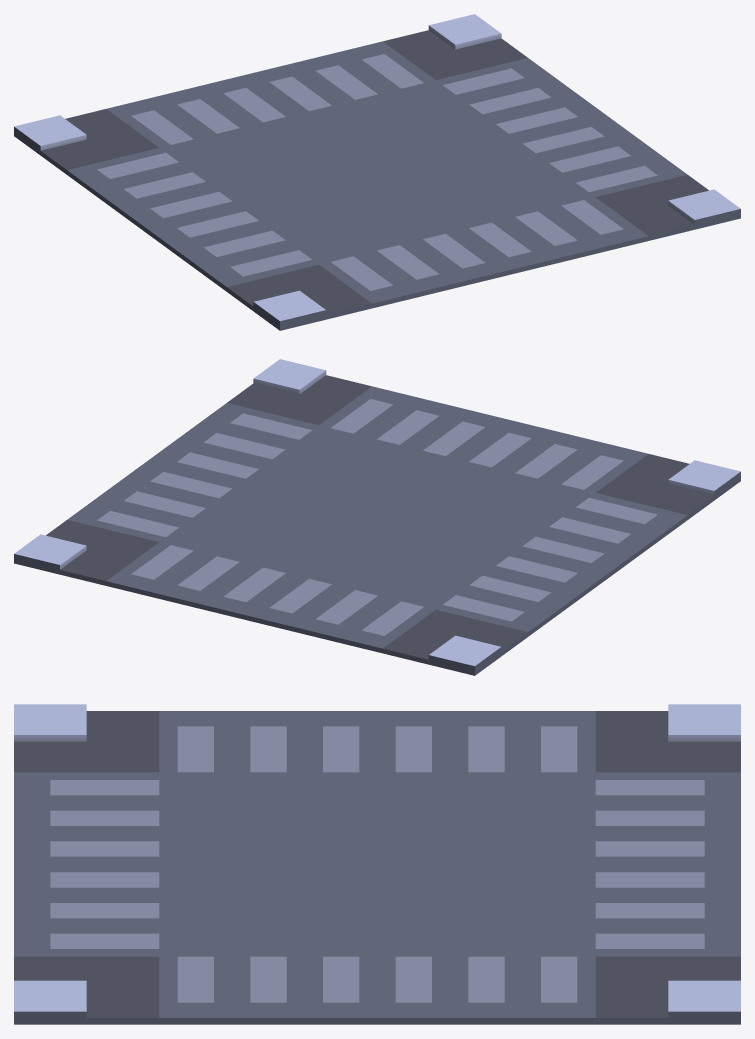
File: road-crossroad-path.glb
3 renders of one model, top to bottom at view 1: azimuth 30°, elevation 25°; view 2: azimuth 150°, elevation 25°; view 3: azimuth 270°, elevation 25°, orthographic. The views are drawn at different scales.
Visible parts, largest first — view 1: road-crossroad-path; view 2: road-crossroad-path; view 3: road-crossroad-path.
Boxes of the visible parts, <box> form: road-crossroad-path: <box>14,14,740,330</box>; road-crossroad-path: <box>14,359,740,675</box>; road-crossroad-path: <box>14,704,740,1024</box>.
Size of the model in its own units: 1 by 0.02 by 1.
Materials: 1 (1 with a texture image).
